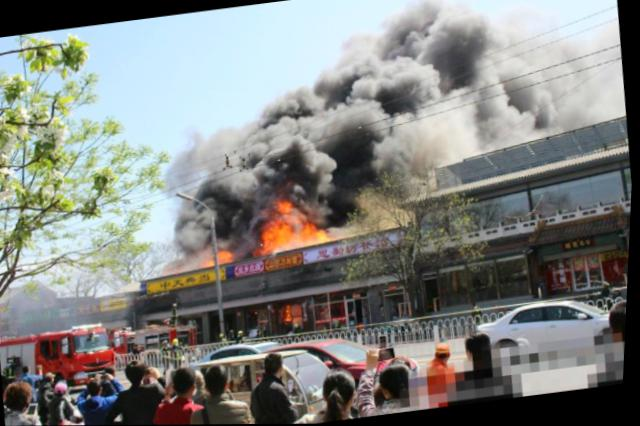fire: (263, 220, 331, 251), (265, 215, 293, 229), (269, 198, 293, 214), (219, 248, 233, 261), (201, 258, 216, 267)
